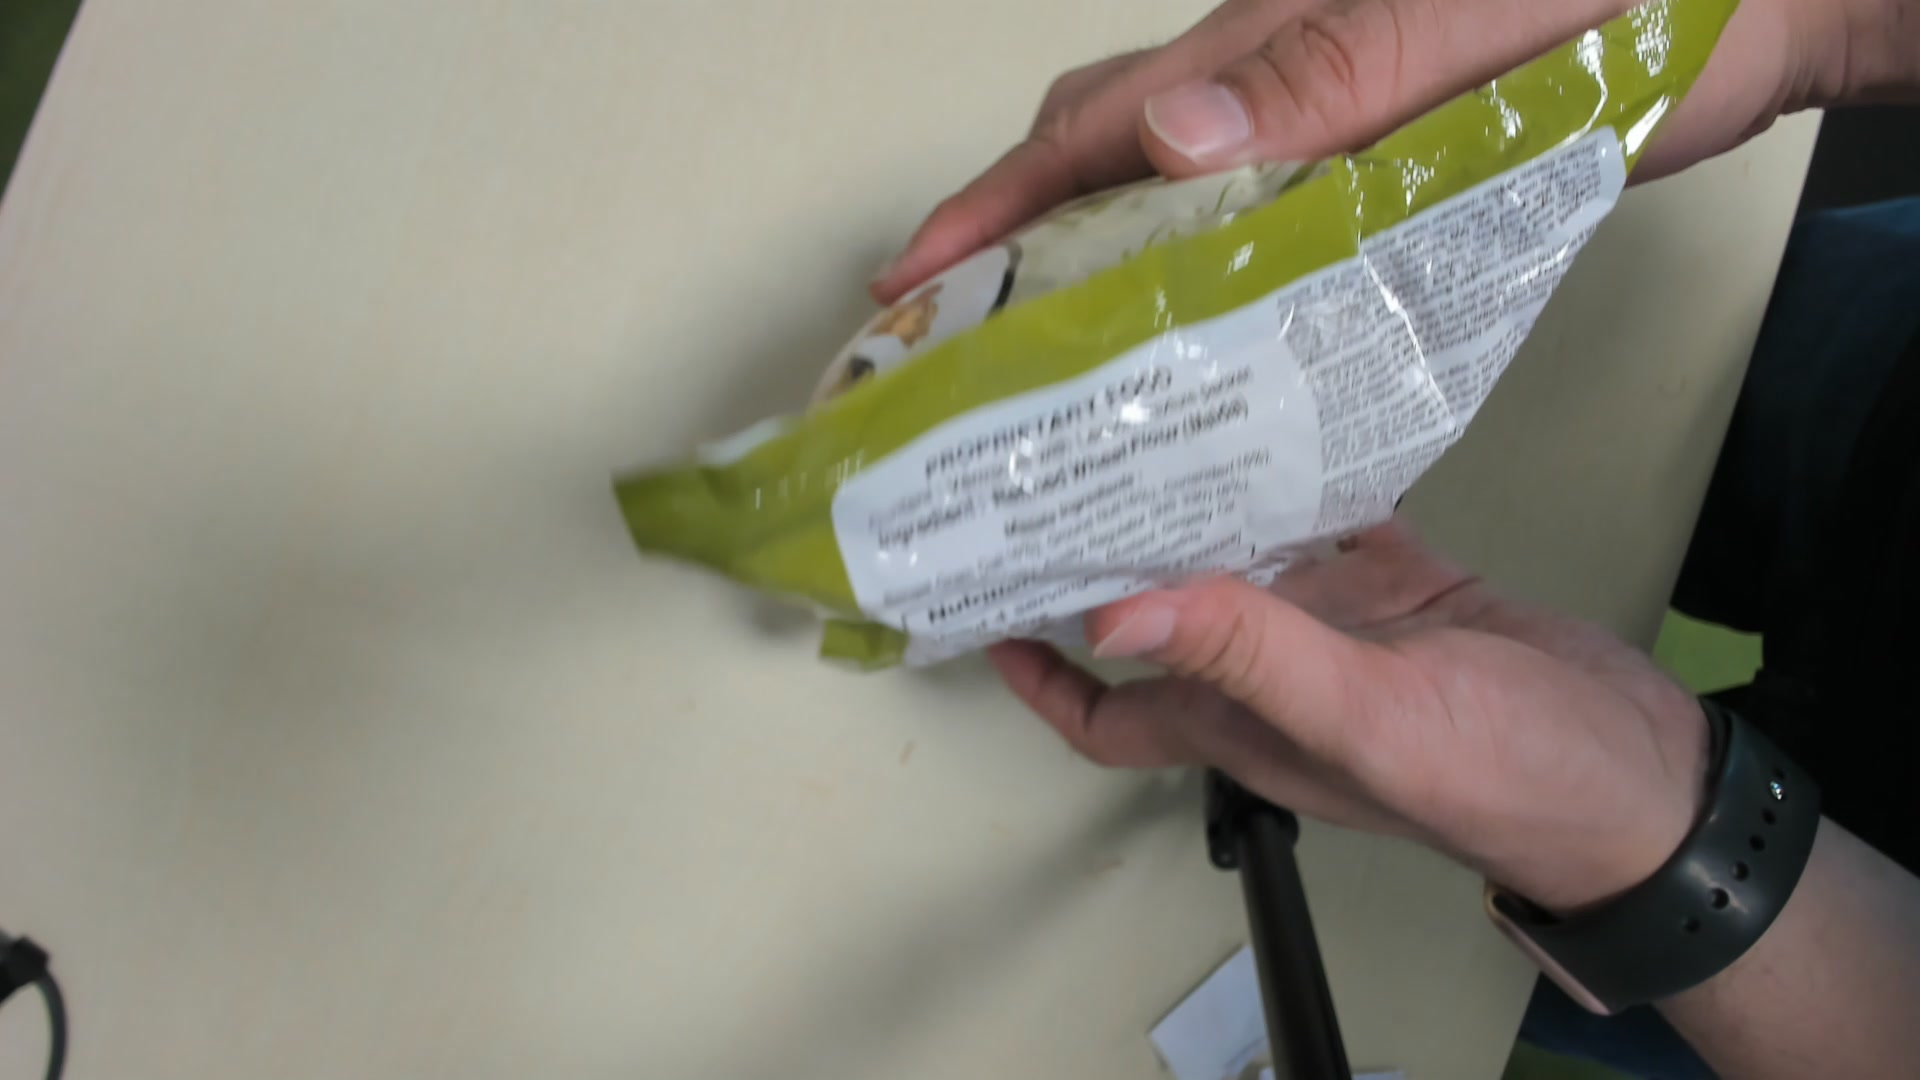BeeHoonVermicelli_200-299g_NonHalal_NonHealthy: (637, 12, 1743, 694)
